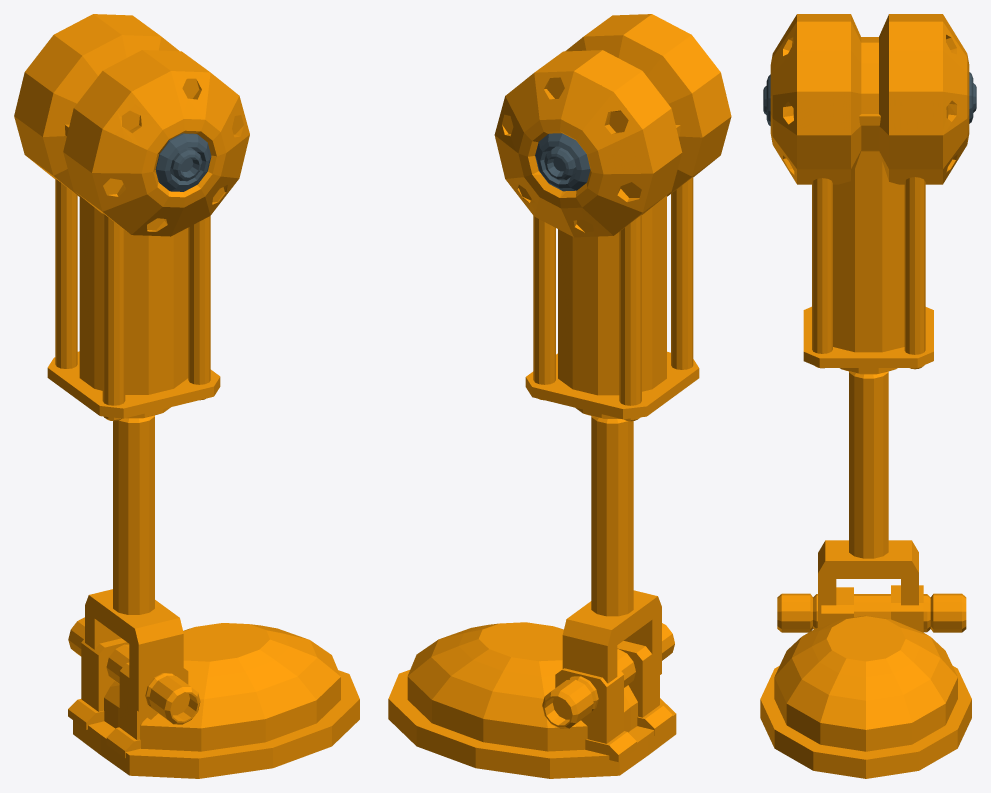
Rendered from scene_QnPygsVP2g.glb.
3 renders of one model, left to right at view 1: azimuth 30°, elevation 25°; view 2: azimuth 150°, elevation 25°; view 3: azimuth 270°, elevation 25°, orthographic. The views are drawn at different scales.
Visible parts, largest first — view 1: group1038062175; view 2: group1038062175; view 3: group1038062175.
Part boxes in pixels (x1,y1,x2,y2): group1038062175: (14, 14, 359, 778); group1038062175: (388, 14, 731, 778); group1038062175: (760, 14, 976, 778).
Bounding box in the file's own units: 0.6701 × 1.53 × 0.4549.
